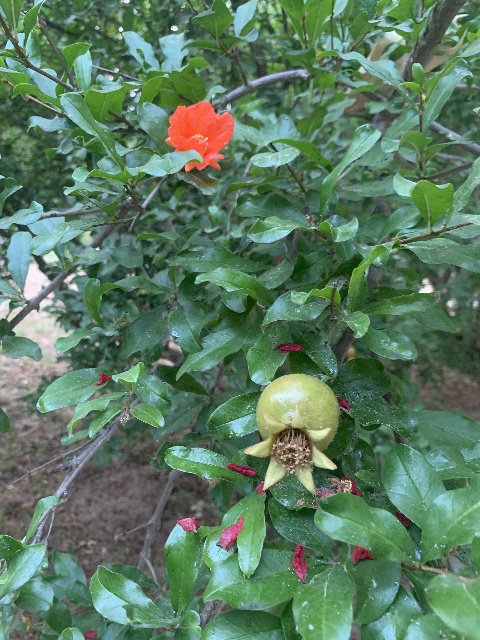flower: (165, 100, 234, 172)
mid-growth: (242, 372, 340, 497)
